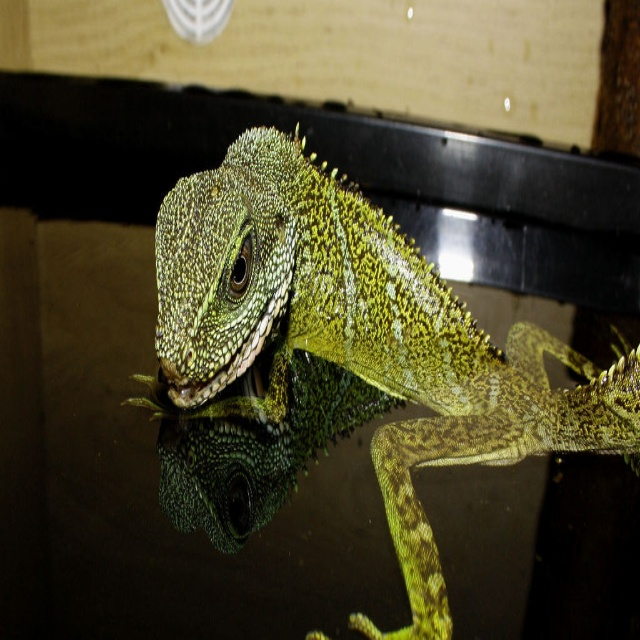Lizard: (120, 122, 640, 639)
